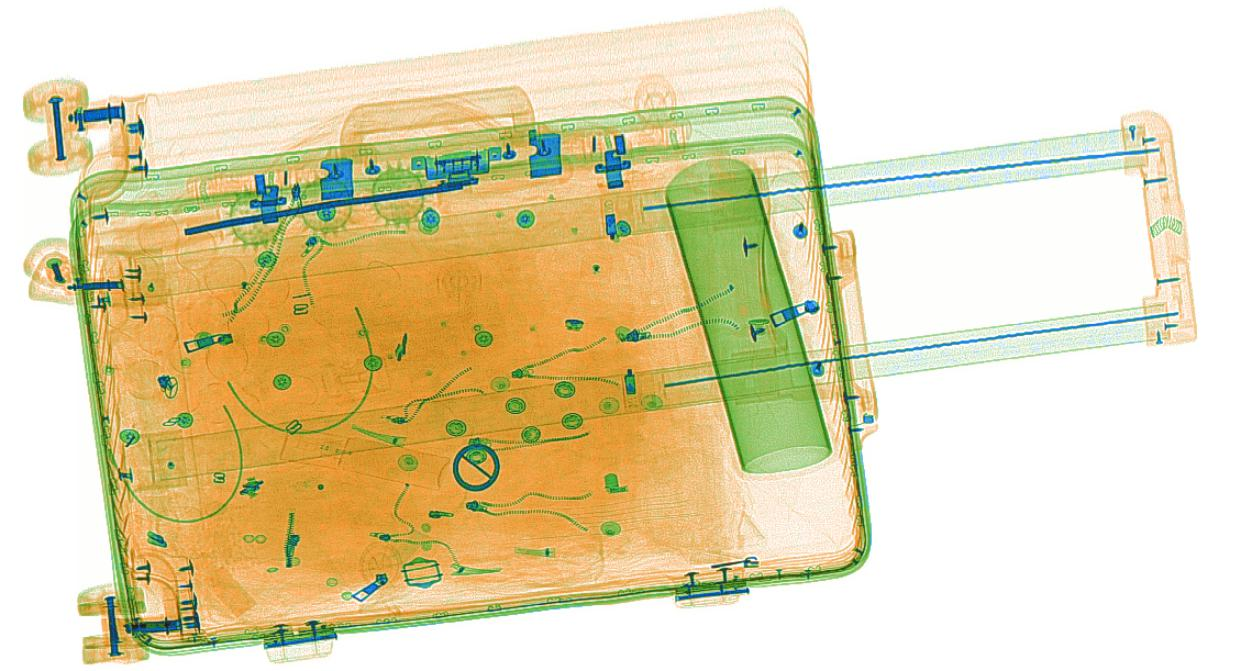plasticBottleWithaNozzle: (280, 425, 453, 493)
